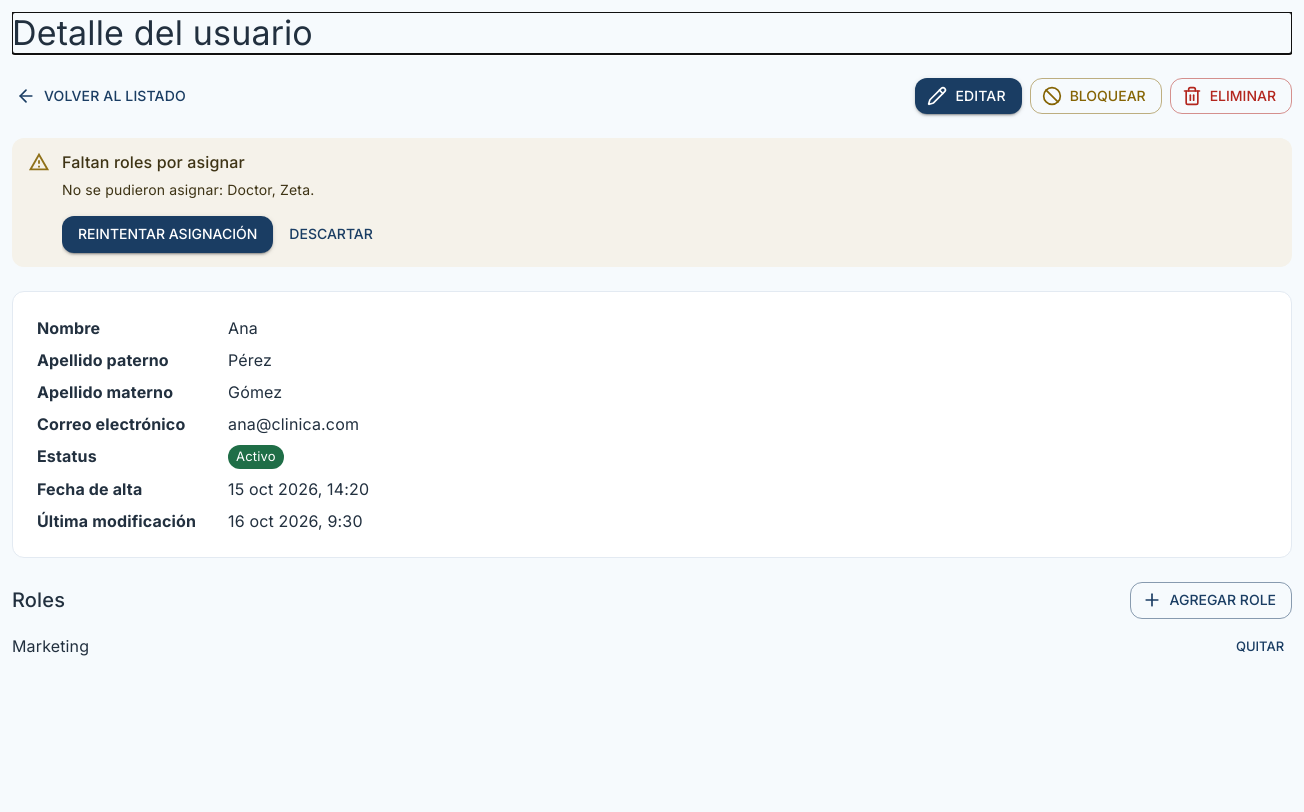
it: UserDetailPage › the roles that could not be assigned when the user was created (FR-023) › when the retry fails again, it says why (FR-011) › says that the role is not available any more
This screenshot has width=1304, height=812.
Click the button "Reintentar asignación".
click(168, 234)  # box left=62, top=216, right=273, bottom=253
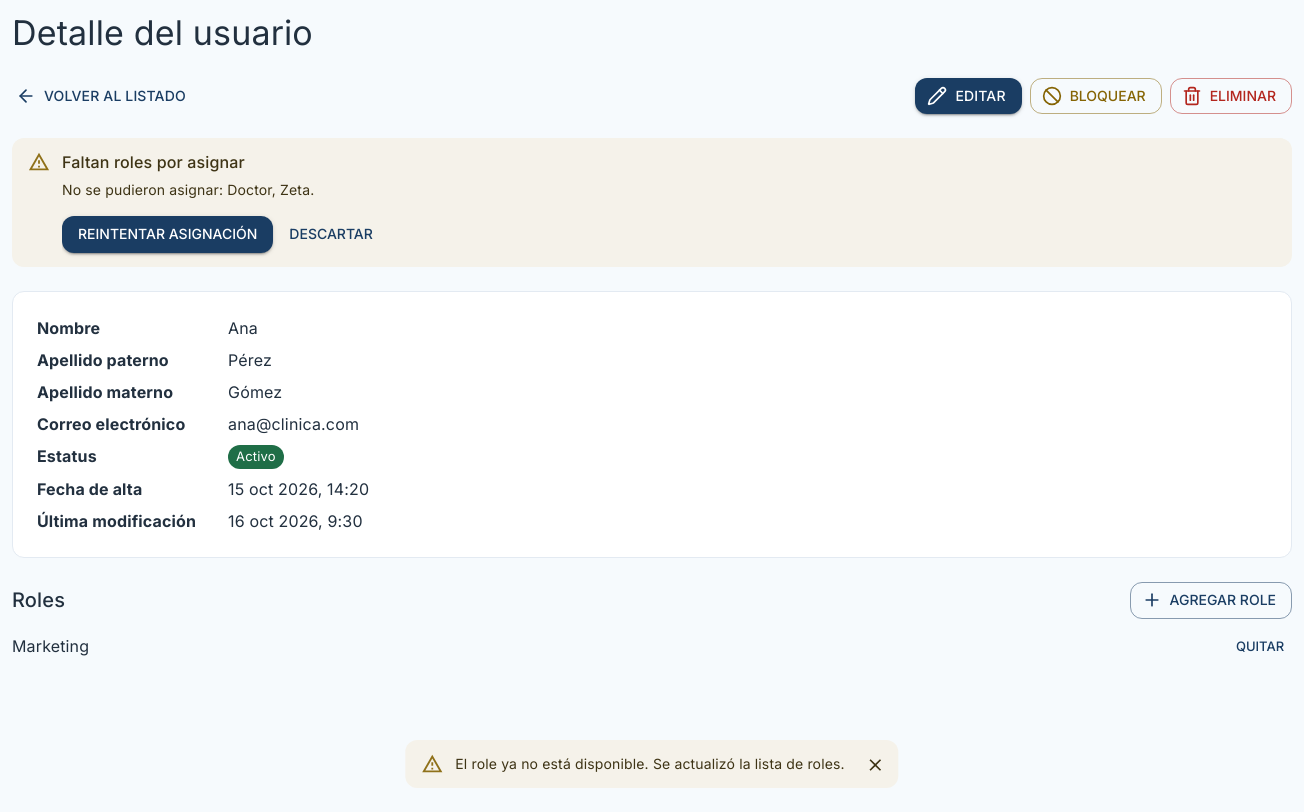
Now the text "El role ya no está disponible. Se actualizó la lista de roles." is shown, box left=455, top=755, right=845, bottom=772
